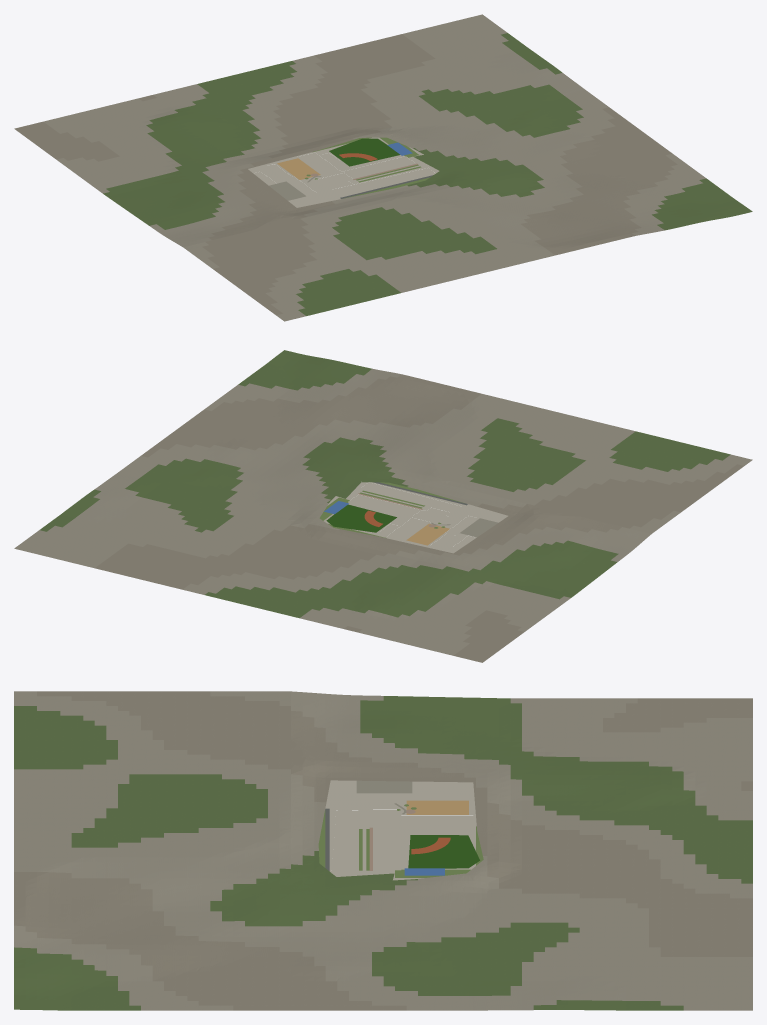
3 views of the same model, one above another, from view 1: azimuth 30°, elevation 25°; view 2: azimuth 150°, elevation 25°; view 3: azimuth 270°, elevation 25° (orthographic). The views are drawn at different scales.
Parts seen in each view (by area): view 1: ground_context-estimated, surface_school-paved-walk, surface_turf-field, surface_underbuilding-high, surface_underbuilding-main; view 2: ground_context-estimated, surface_school-paved-walk, surface_turf-field, surface_underbuilding-high, surface_underbuilding-main; view 3: ground_context-estimated, surface_school-paved-walk, surface_turf-field, surface_underbuilding-high, surface_underbuilding-main, surface_dirt-yard, surface_west-parking.
Part boxes in pixels (box(x1,y1,x2,y2)): ground_context-estimated: box(14, 14, 752, 321); surface_school-paved-walk: box(248, 137, 439, 207); surface_turf-field: box(329, 138, 399, 166); surface_underbuilding-high: box(332, 169, 430, 195); surface_underbuilding-main: box(343, 156, 415, 178); ground_context-estimated: box(14, 350, 752, 662); surface_school-paved-walk: box(323, 482, 507, 553); surface_turf-field: box(326, 504, 396, 532); surface_underbuilding-high: box(366, 483, 461, 512); surface_underbuilding-main: box(348, 494, 420, 517); ground_context-estimated: box(14, 691, 752, 1010); surface_school-paved-walk: box(325, 780, 475, 880); surface_turf-field: box(408, 835, 479, 868); surface_underbuilding-high: box(331, 810, 358, 870); surface_underbuilding-main: box(373, 828, 401, 870); surface_dirt-yard: box(406, 800, 468, 814); surface_west-parking: box(356, 780, 412, 793).
Bounding box in the file's own units: 768 × 8 × 768.
12 materials, 12 textured.
